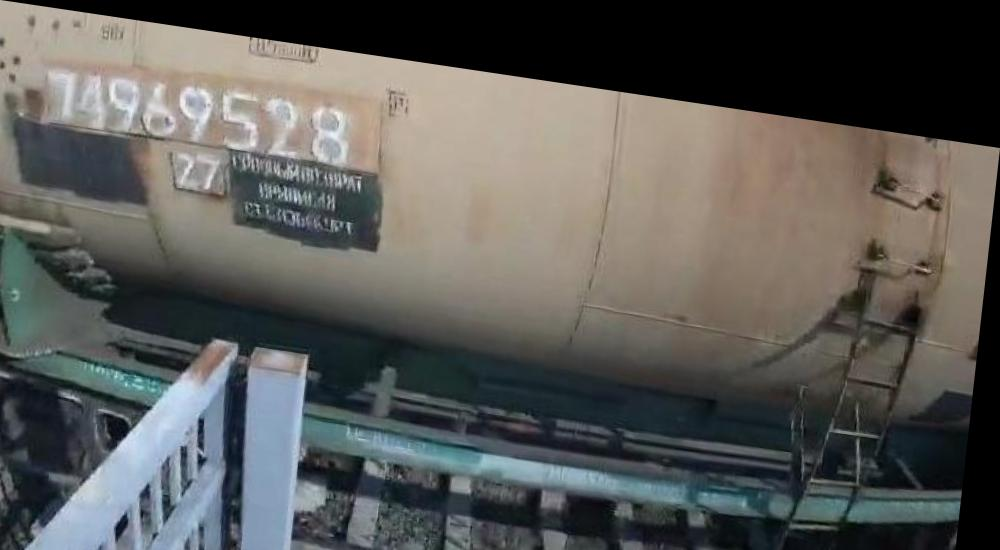Wagon-number: (44, 58, 359, 161)
